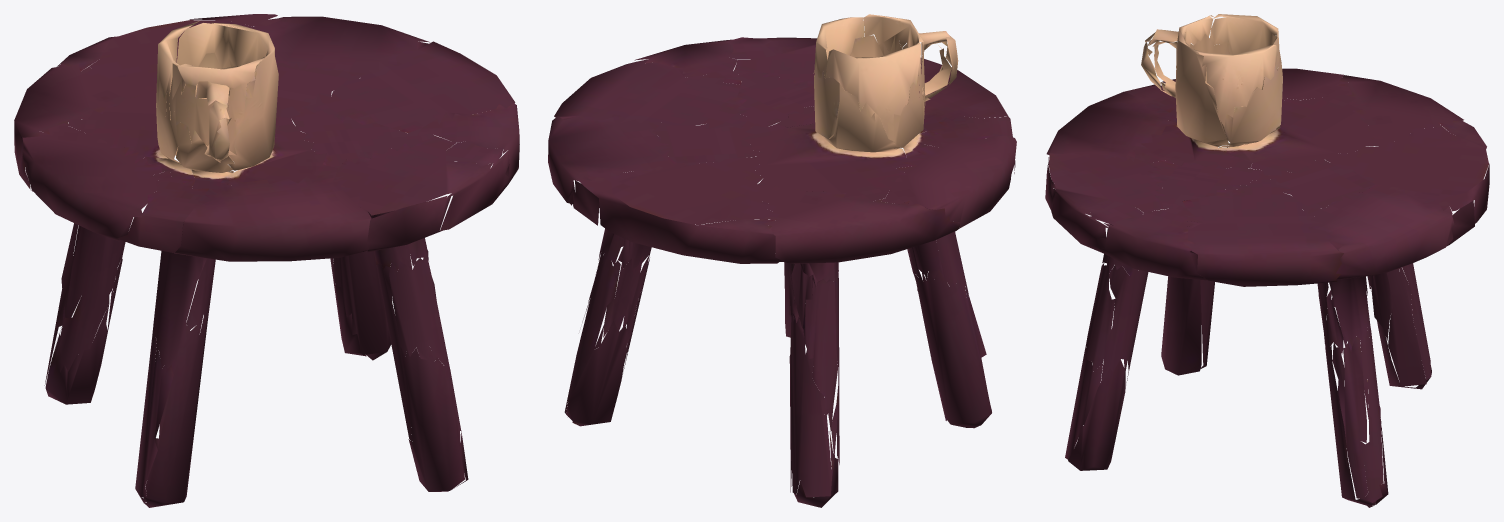
The model's file is side_table_with_mug.glb.
The picture shows the model from 3 angles, left to right: view 1: azimuth 30°, elevation 25°; view 2: azimuth 150°, elevation 25°; view 3: azimuth 270°, elevation 25°; orthographic projection. The views are drawn at different scales.
Parts seen in each view (by area): view 1: tripo_node_9b34f0d8-2f97-4001-aba6-73d79a6b584a; view 2: tripo_node_9b34f0d8-2f97-4001-aba6-73d79a6b584a; view 3: tripo_node_9b34f0d8-2f97-4001-aba6-73d79a6b584a.
Part boxes in pixels (left/top/right/bottom): tripo_node_9b34f0d8-2f97-4001-aba6-73d79a6b584a: left=14, top=14, right=519, bottom=507; tripo_node_9b34f0d8-2f97-4001-aba6-73d79a6b584a: left=548, top=14, right=1016, bottom=507; tripo_node_9b34f0d8-2f97-4001-aba6-73d79a6b584a: left=1045, top=14, right=1489, bottom=507.
Size of the model in its own units: 0.48 by 0.446 by 0.4794.
Materials: 1 (1 with a texture image).
